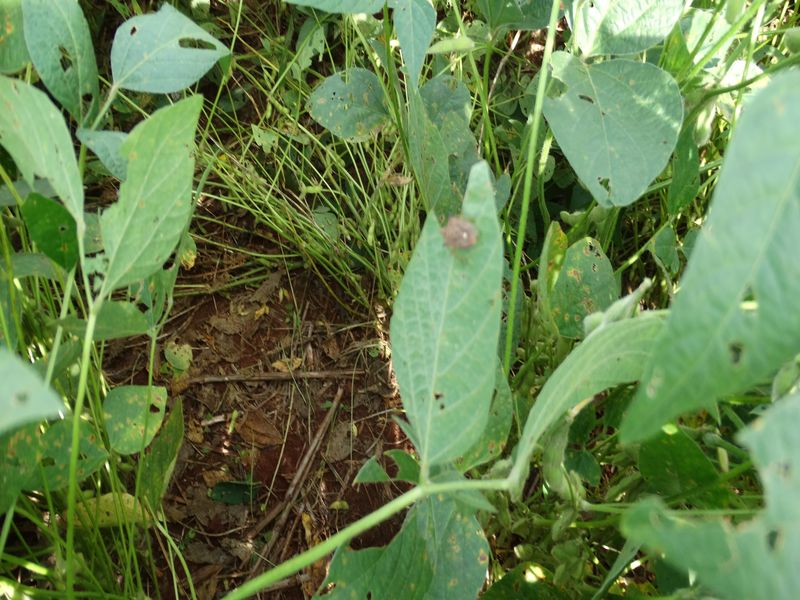Euschistus_heros_adulto: (430, 209, 488, 264)
